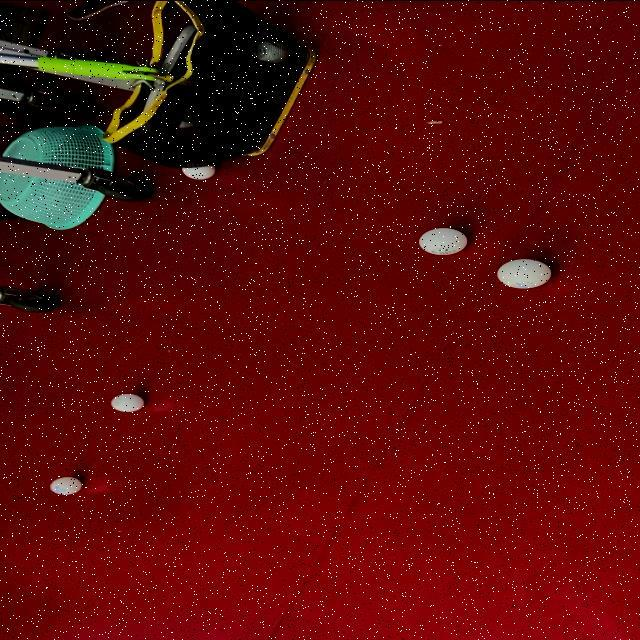ping-pong-ball: (494, 256, 556, 288), (414, 226, 472, 256), (105, 391, 150, 413), (178, 160, 220, 180), (48, 474, 86, 496)
